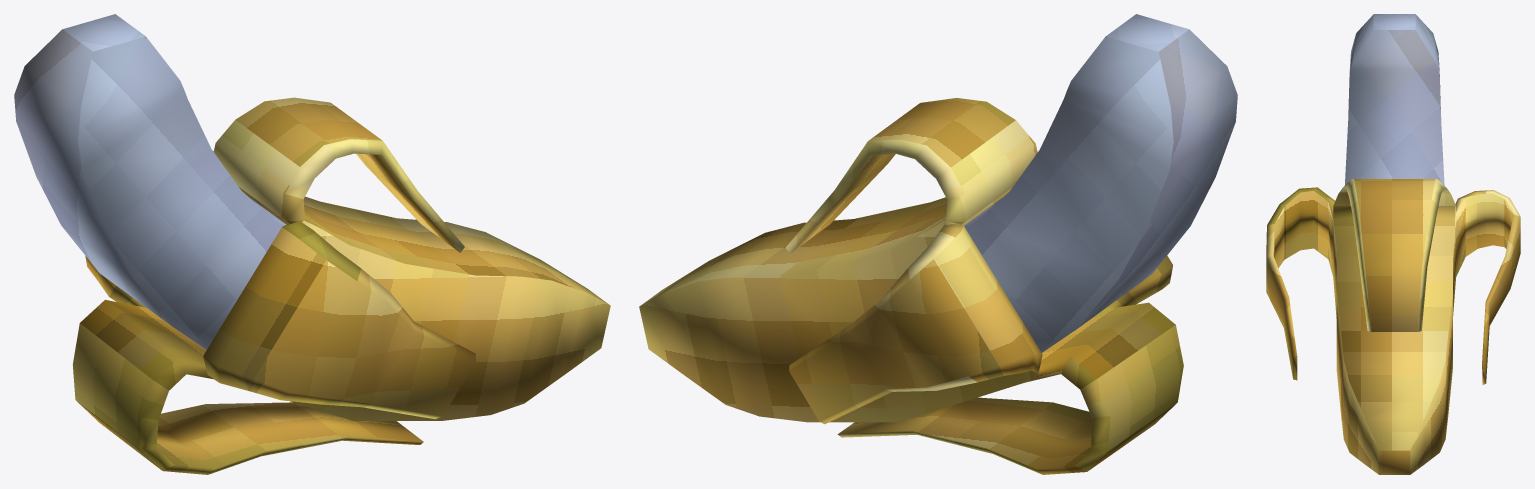
Rendered from Babana.obj.
The picture shows the model from 3 angles, left to right: view 1: azimuth 30°, elevation 25°; view 2: azimuth 150°, elevation 25°; view 3: azimuth 270°, elevation 25°; orthographic projection. The views are drawn at different scales.
Parts seen in each view (by area): view 1: Cube.001, Cube; view 2: Cube.001, Cube; view 3: Cube.001, Cube.
Part boxes in pixels (box(x1,y1,x2,y2)): Cube.001: box(72, 97, 610, 474); Cube: box(14, 14, 286, 349); Cube.001: box(639, 98, 1183, 474); Cube: box(964, 14, 1237, 352); Cube.001: box(1266, 179, 1520, 474); Cube: box(1345, 14, 1444, 184).
Bounding box in the file's own units: 3.92 × 3.18 × 2.28.
